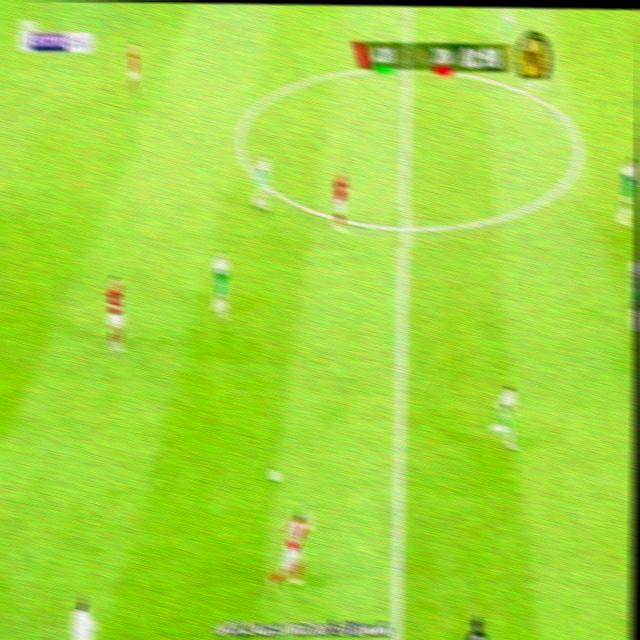halfcircle_bottom: (390, 210, 418, 247)
